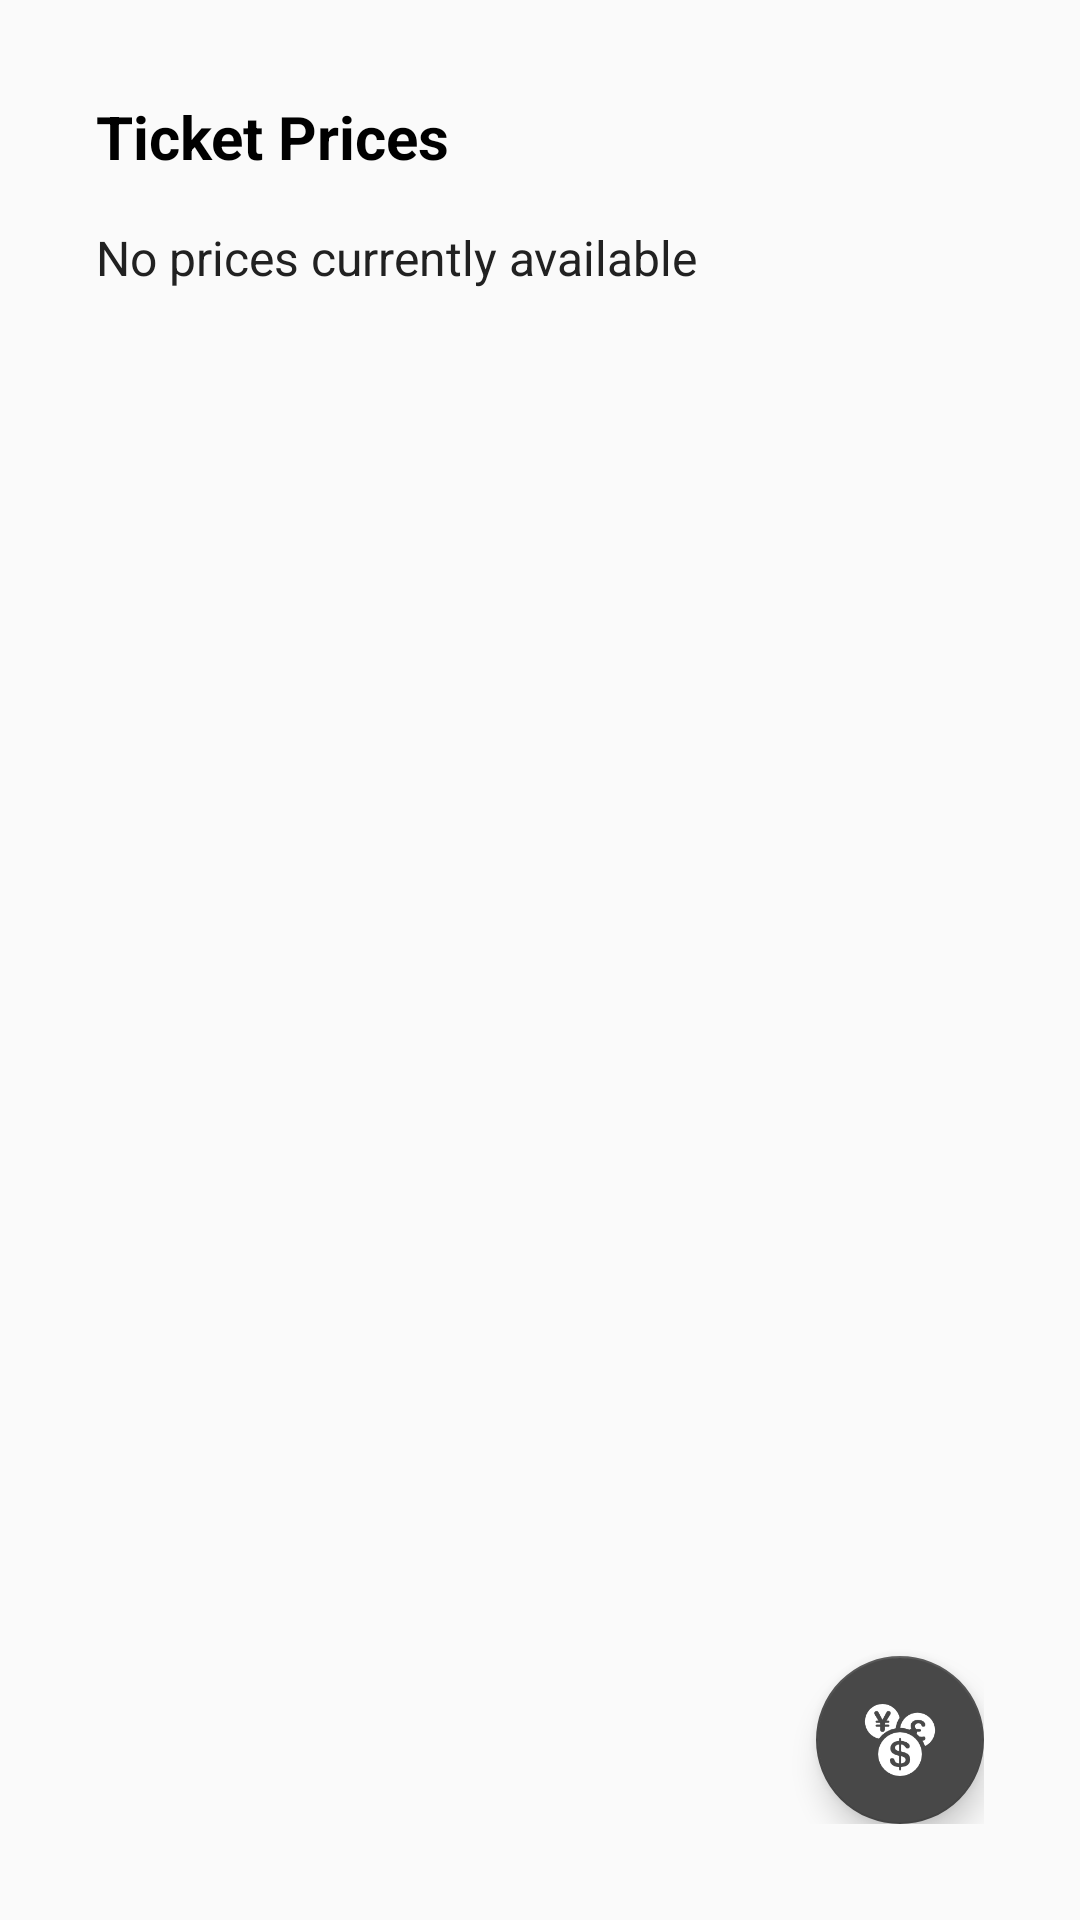

Named icons in this screenshot (1080px×1920px) and their centers, (x,y):
currency exchange: (900,1740)
